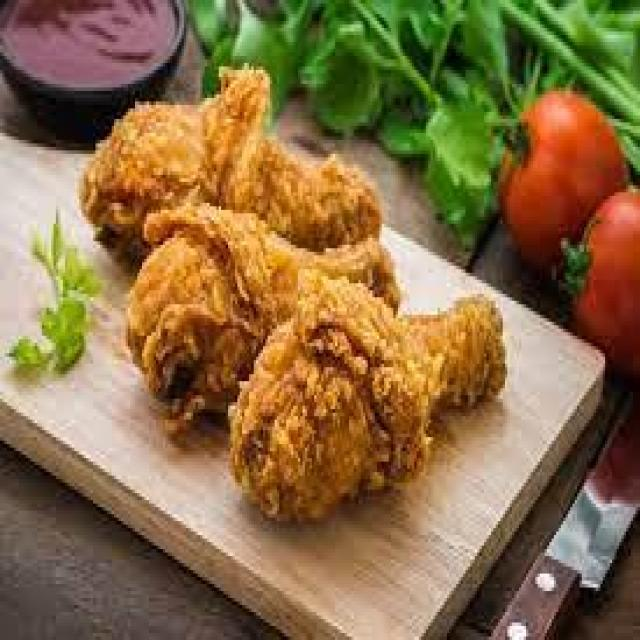Frango: (228, 273, 507, 528), (125, 203, 402, 427), (79, 70, 384, 255)
